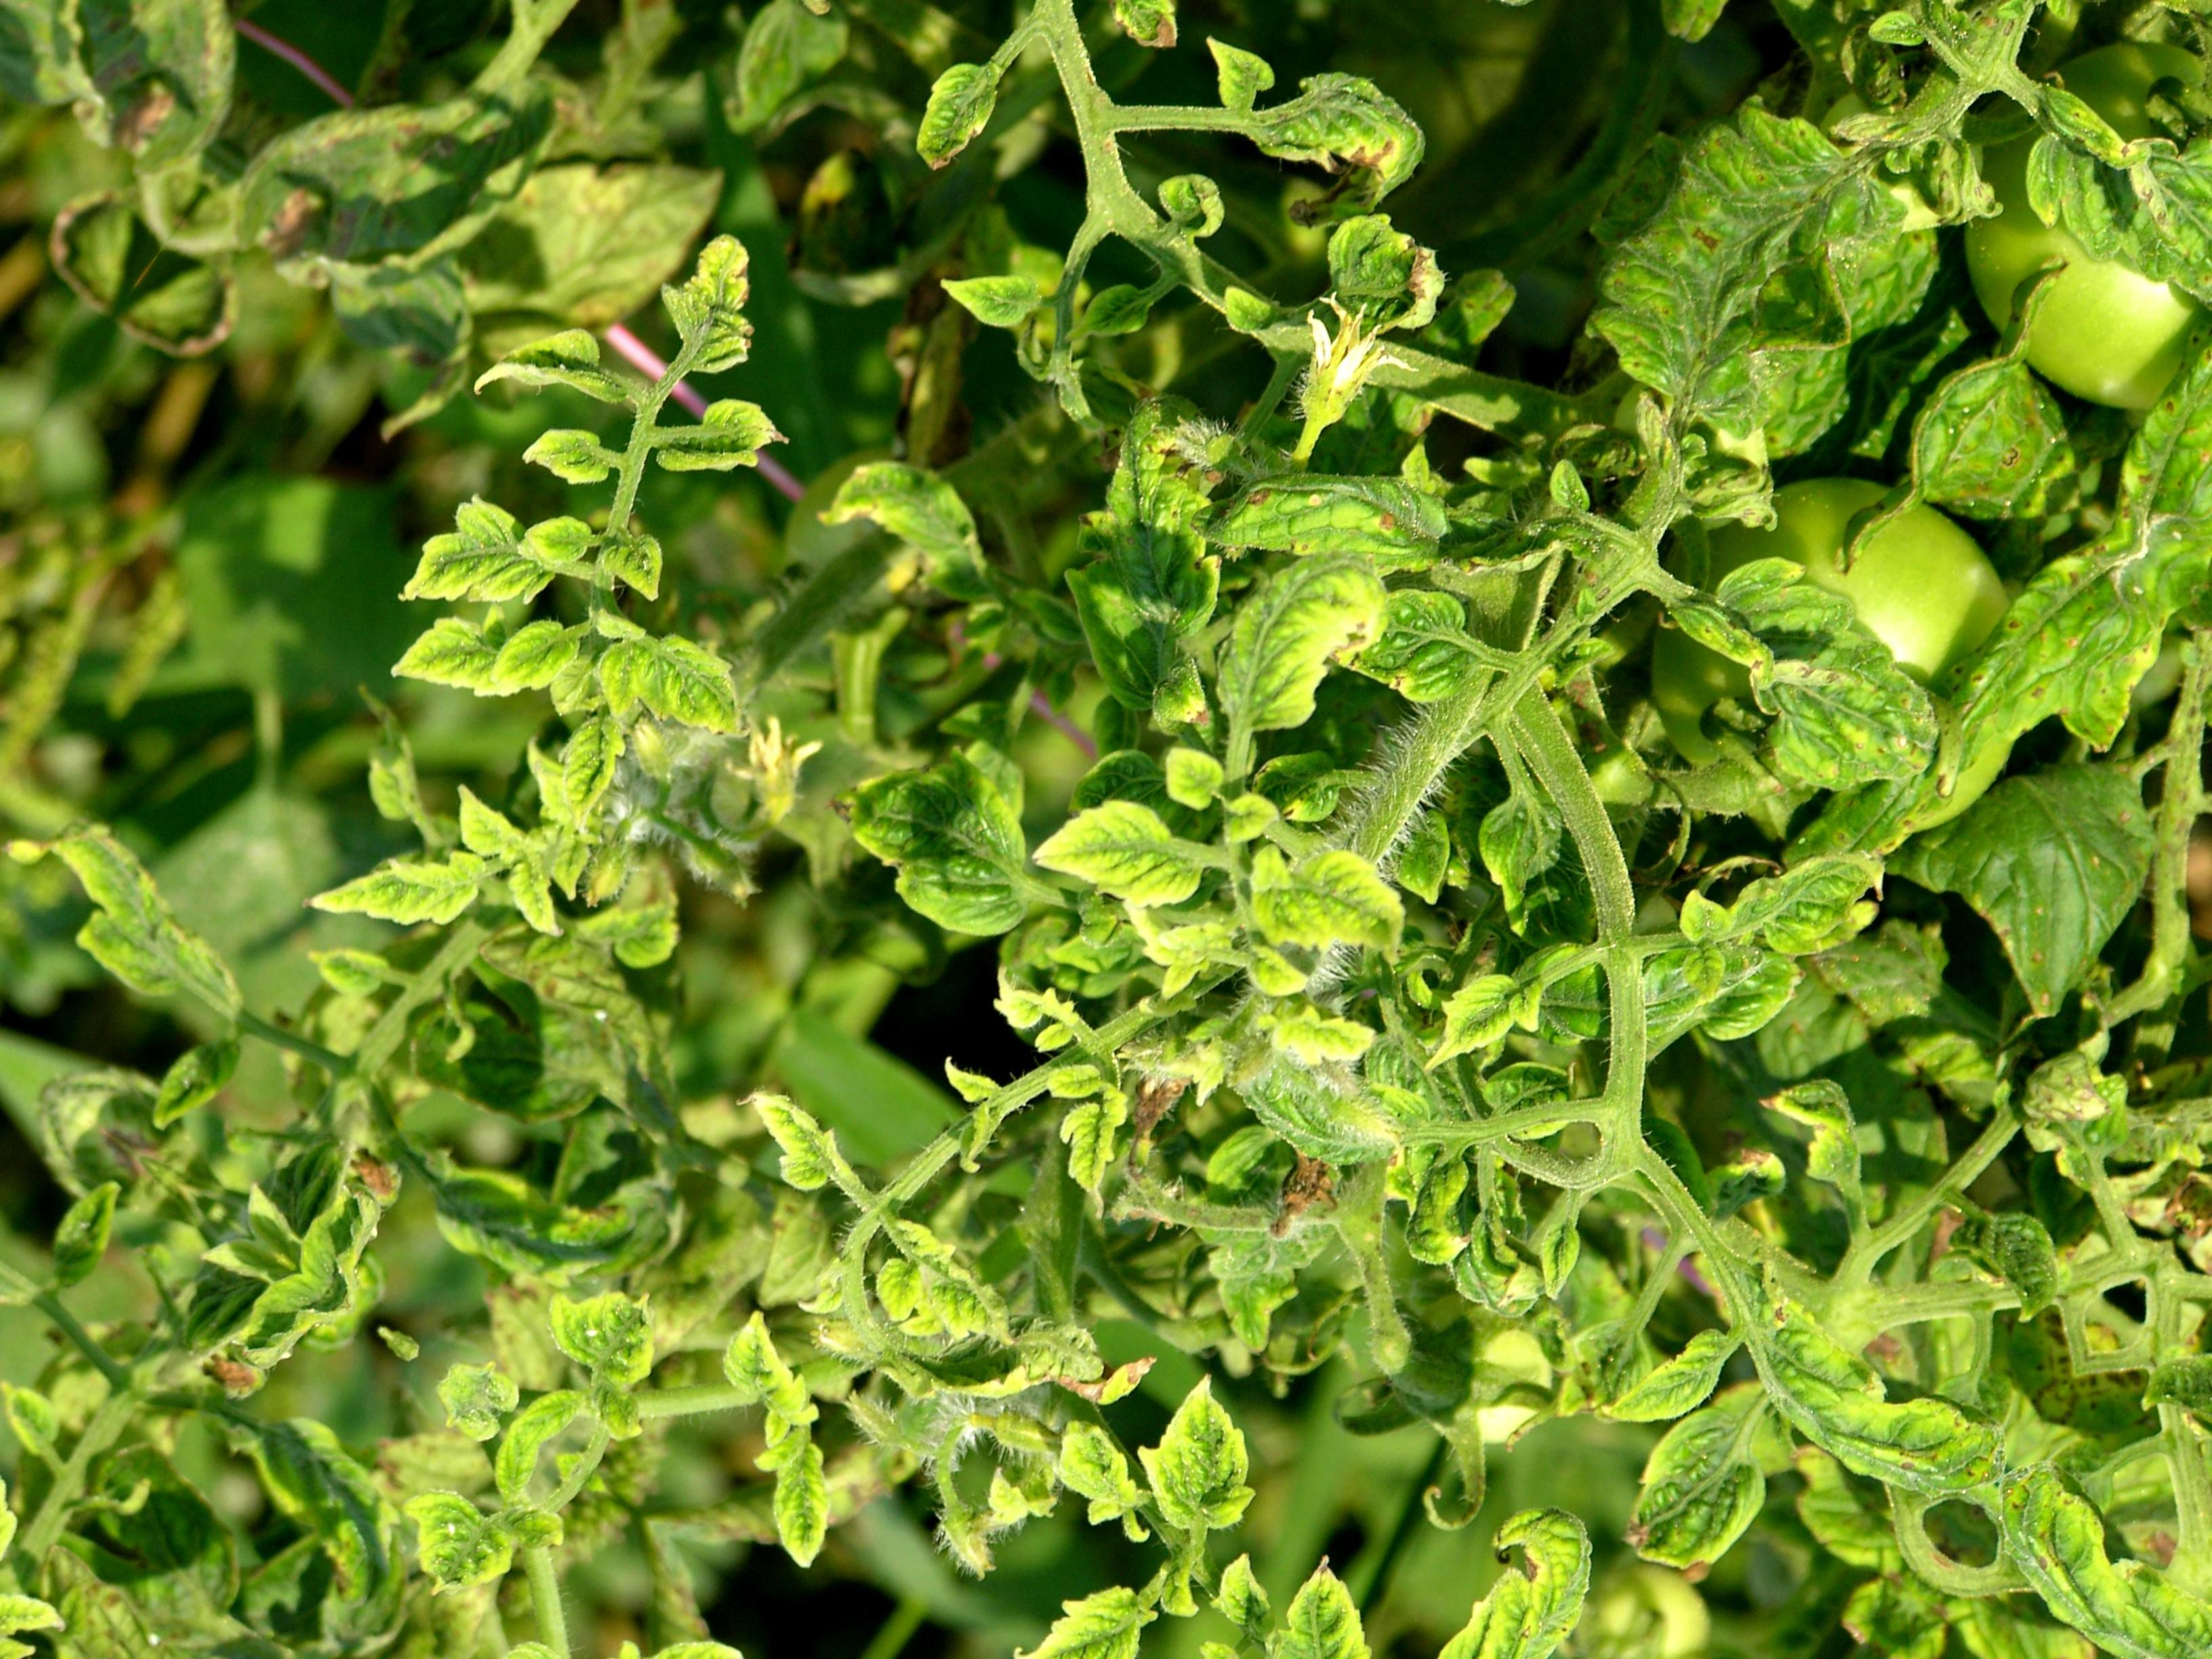Tomato leaf yellow virus: (1606, 481, 2067, 896), (773, 667, 1113, 985), (1912, 505, 2212, 852), (1137, 748, 1461, 1053), (1665, 742, 1956, 1056), (1172, 371, 1474, 669), (1197, 3, 1470, 268), (385, 415, 639, 676), (1179, 514, 1418, 769), (995, 741, 1242, 985), (1087, 1326, 1324, 1572), (1594, 1363, 1818, 1603), (1376, 1467, 1646, 1659), (622, 197, 840, 416), (296, 791, 517, 1006), (817, 1197, 1033, 1392), (496, 1223, 698, 1417), (702, 1037, 890, 1218), (1195, 1523, 1446, 1659), (982, 1539, 1202, 1659), (387, 591, 547, 744), (697, 1283, 846, 1432), (693, 0, 1068, 17)
